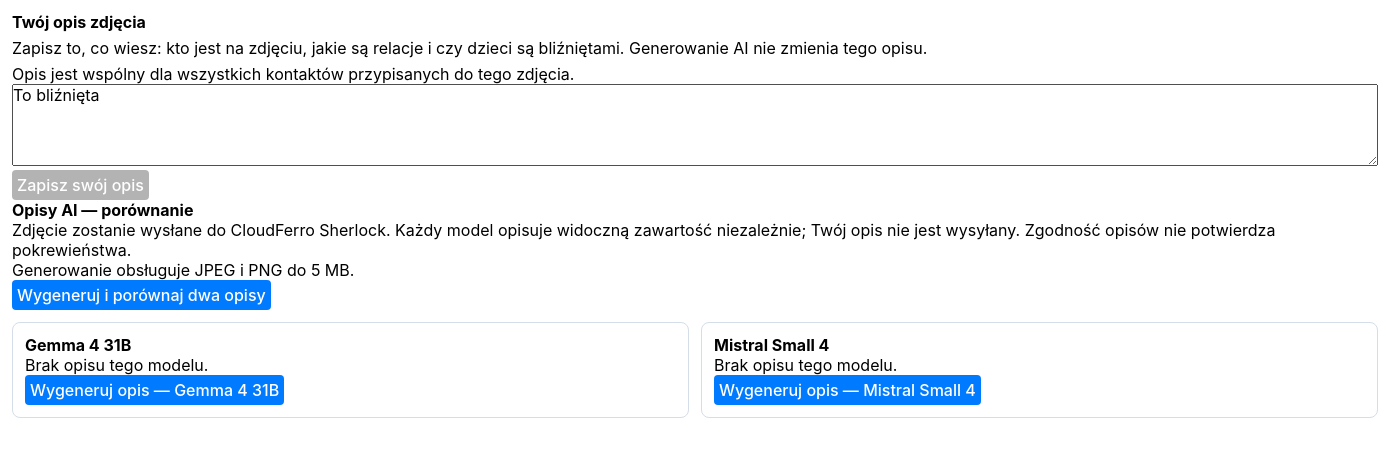
Scenario: contact photo descriptions › keeps the successful result when the other model fails
The width and height of the screenshot is (1390, 455).
Click the button "Wygeneruj i porównaj dwa opisy" at [141, 295], box x1=12 y1=280 x2=271 y2=310
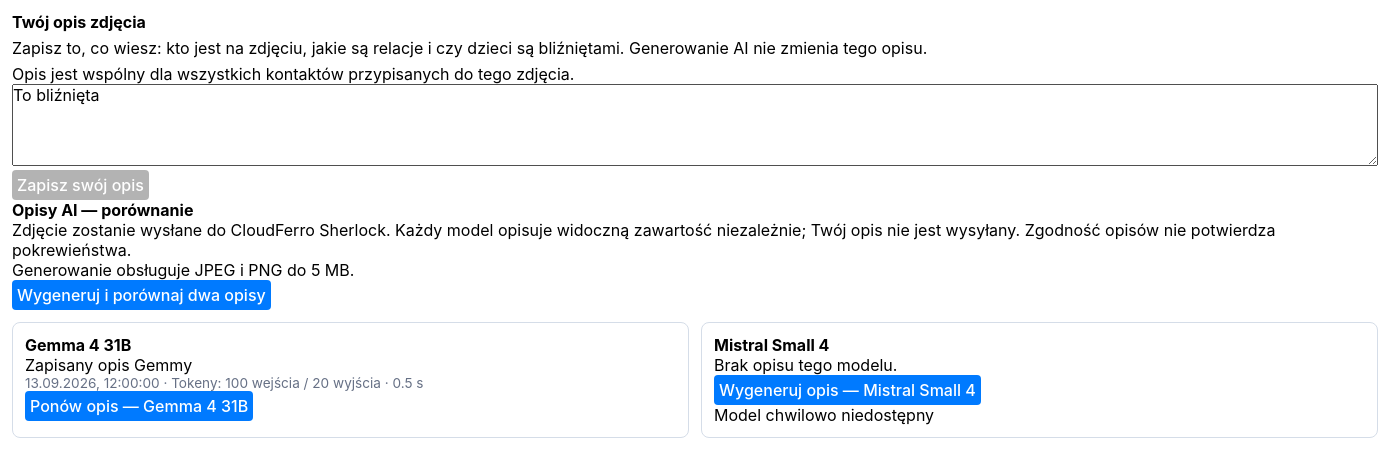
Expected: the button "Wygeneruj opis — Mistral Small 4" is enabled, x1=714 y1=375 x2=981 y2=405
Result: the text "Zapisany opis Gemmy" is shown at x1=25 y1=355 x2=192 y2=375
Result: the message reads "Model chwilowo niedostępny" at x1=714 y1=405 x2=934 y2=425
